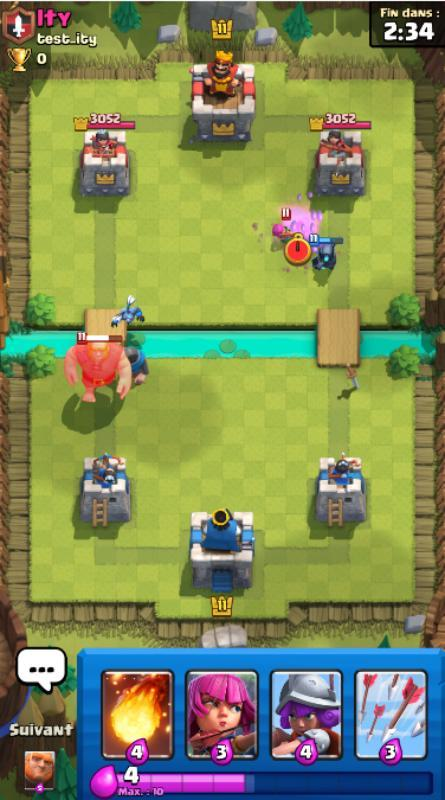archere: (271, 206, 296, 246)
chevalier: (125, 344, 151, 386)
gargouille: (108, 295, 146, 327)
geant: (63, 331, 134, 404)
mini_PEKKA: (309, 234, 344, 271)
